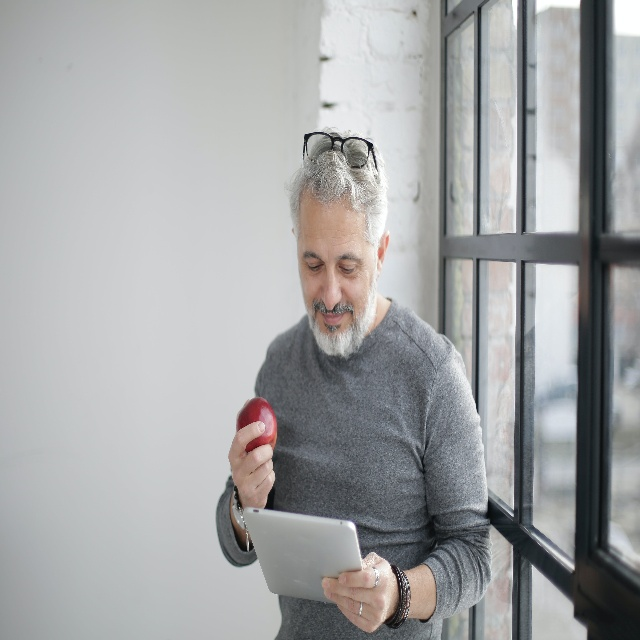Gafas: (302, 131, 378, 172)
Sin_guantes: (321, 552, 398, 632), (229, 420, 275, 509)
